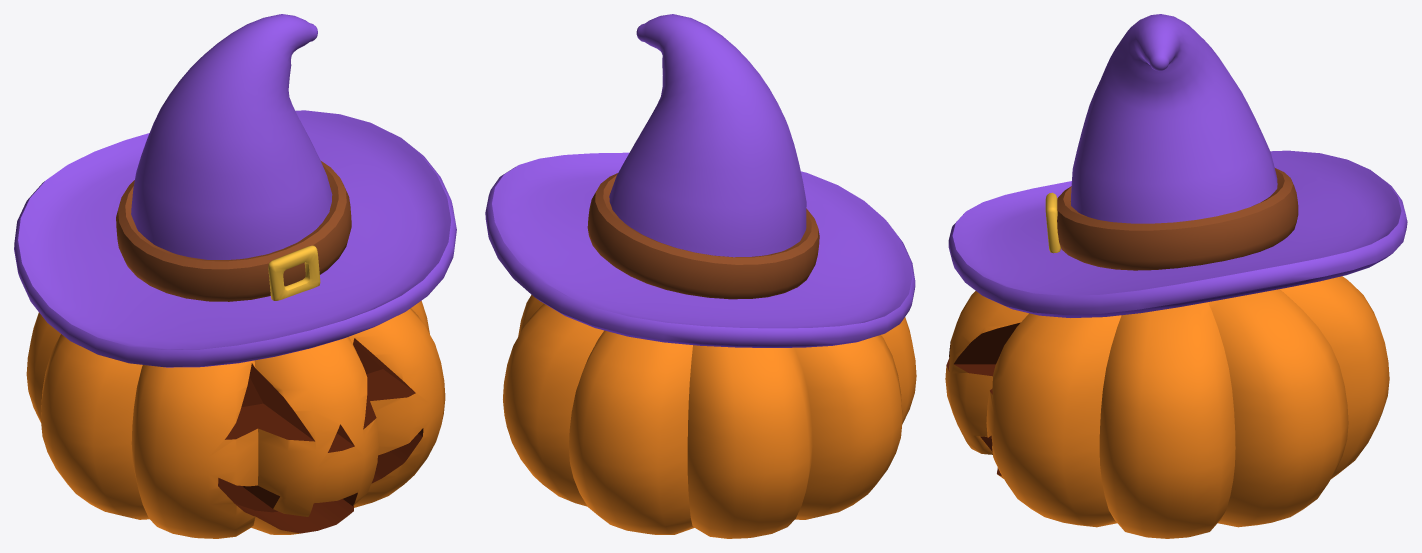
File: JackOLantern.fbx
The picture shows the model from 3 angles, left to right: view 1: azimuth 30°, elevation 25°; view 2: azimuth 150°, elevation 25°; view 3: azimuth 270°, elevation 25°; orthographic projection. The views are drawn at different scales.
Parts seen in each view (by area): view 1: JackOLantern; view 2: JackOLantern; view 3: JackOLantern.
Boxes of the visible parts, left/top/right/bottom form: JackOLantern: left=14, top=14, right=456, bottom=538; JackOLantern: left=485, top=14, right=916, bottom=538; JackOLantern: left=945, top=14, right=1407, bottom=538.
Size of the model in its own units: 222 by 261 by 226.
1 material, 1 textured.
